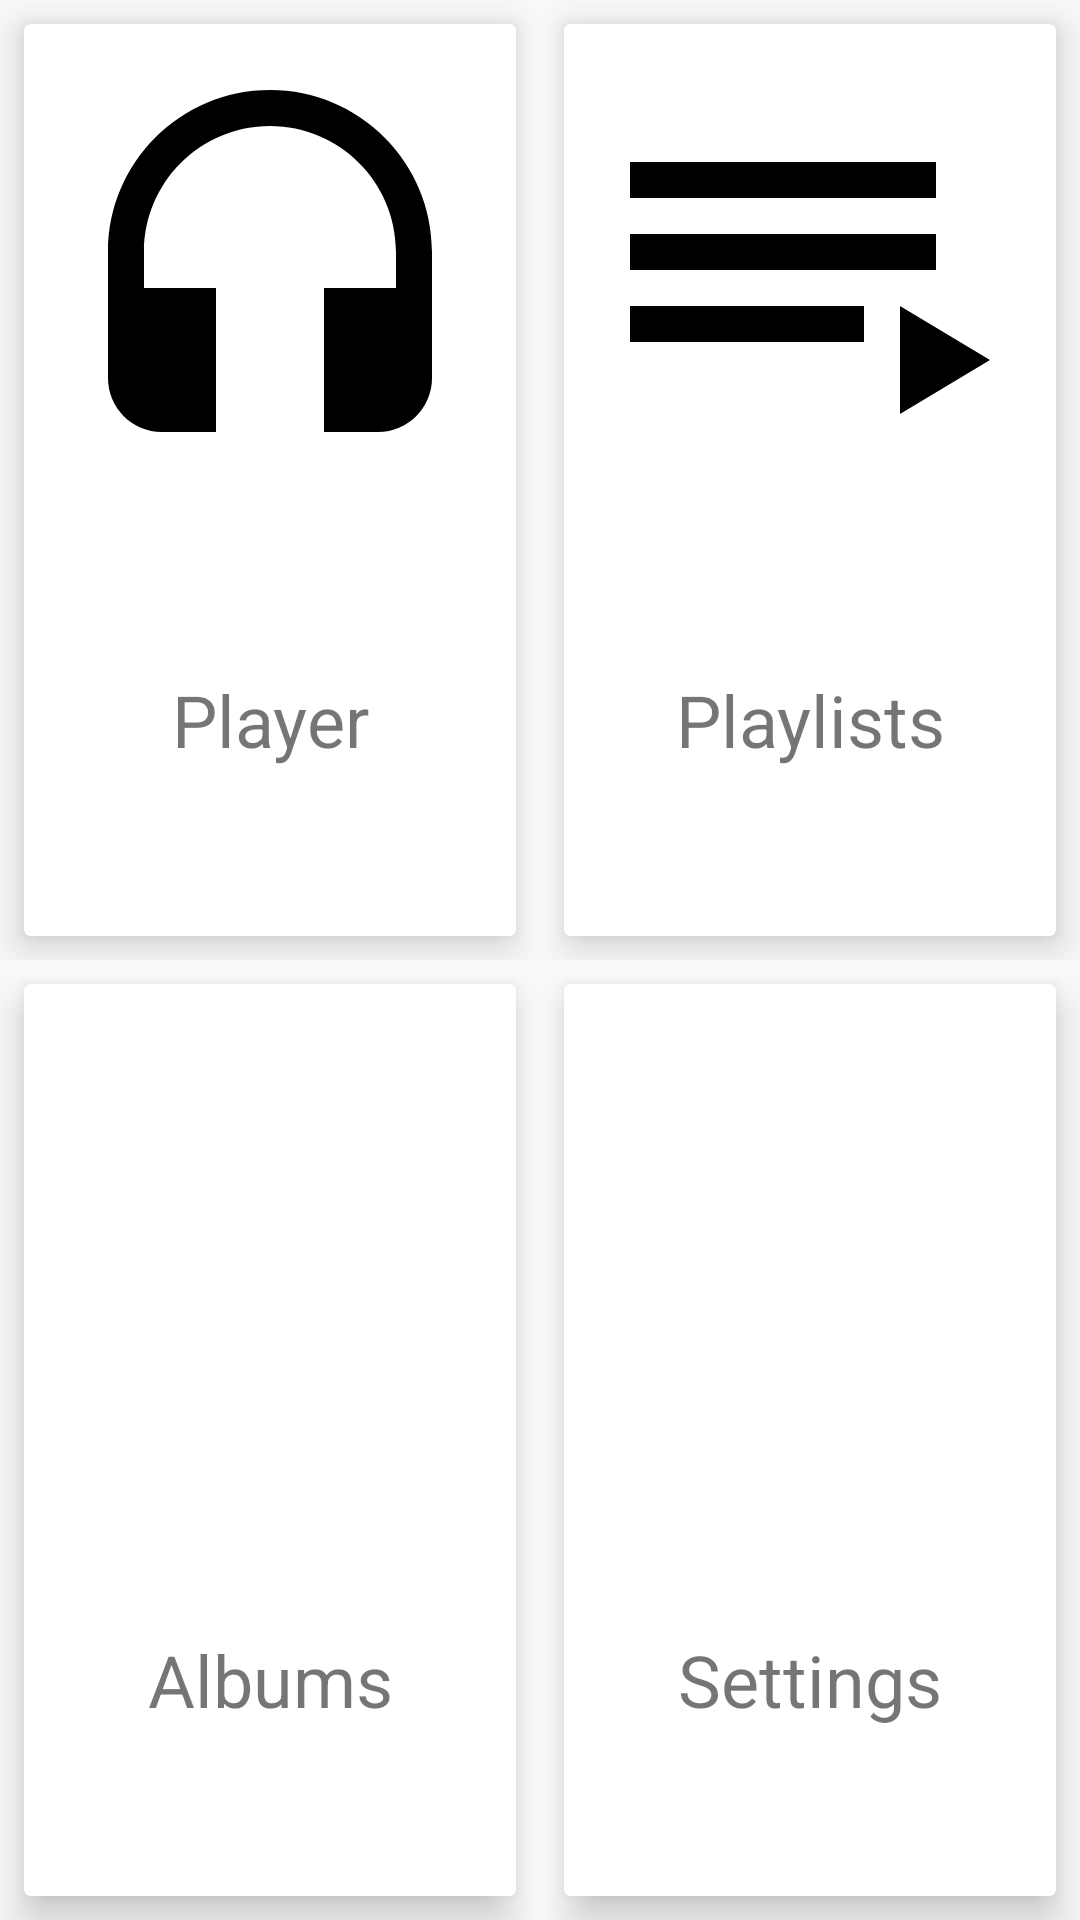

Where icons sit on this 1080px x 1920px app screen, as [left=x1, top=y1, right=x2, bottom=y2]:
headset: [left=108, top=90, right=432, bottom=432]
playlist play: [left=630, top=162, right=990, bottom=414]
